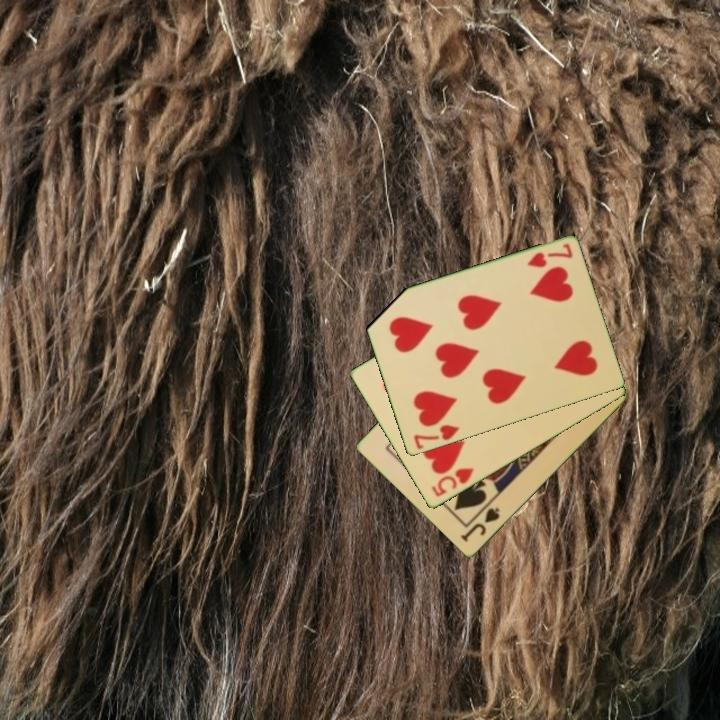5h: (428, 465, 477, 500)
7h: (410, 421, 462, 453), (523, 240, 575, 271)
Js: (457, 504, 503, 545)
